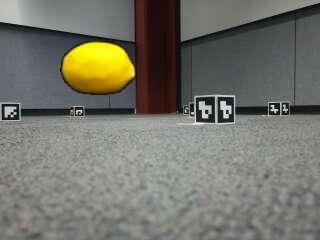lemon: (61, 43, 135, 95)
